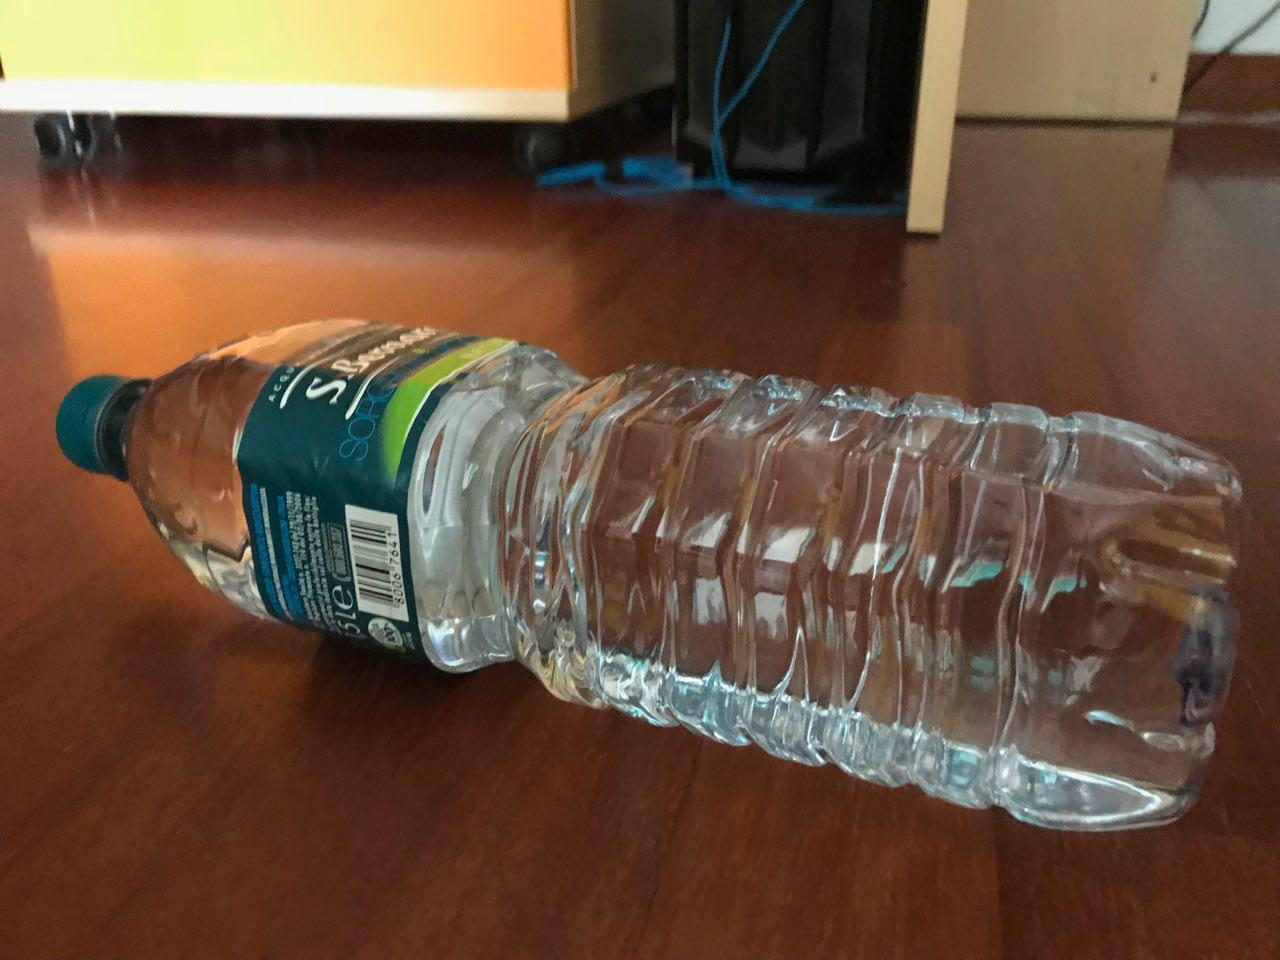san_bernardo: (54, 315, 1248, 834)
